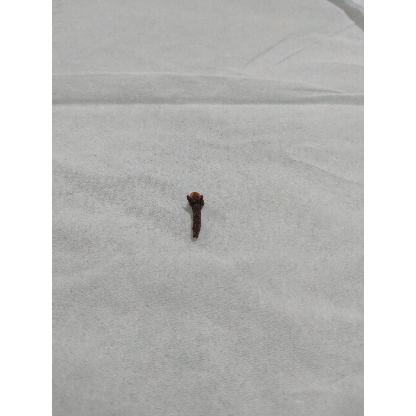sedang: (186, 192, 205, 240)
